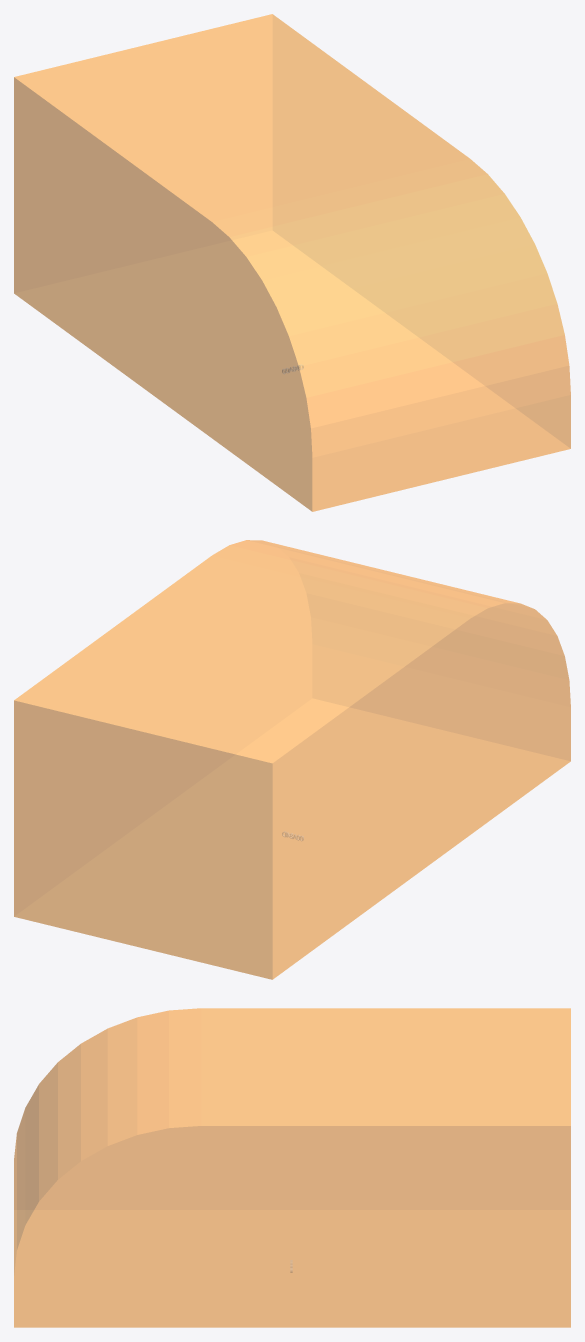
The picture shows the model from 3 angles, top to bottom: view 1: azimuth 30°, elevation 25°; view 2: azimuth 150°, elevation 25°; view 3: azimuth 270°, elevation 25°; orthographic projection. The views are drawn at different scales.
Visible parts, largest first — view 1: Cube; view 2: Cube; view 3: Cube.
Boxes of the visible parts, <box> form: Cube: <box>14,14,570,511</box>; Cube: <box>14,540,570,979</box>; Cube: <box>14,1008,570,1327</box>.
Size of the model in its own units: 2 by 1.6 by 4.
